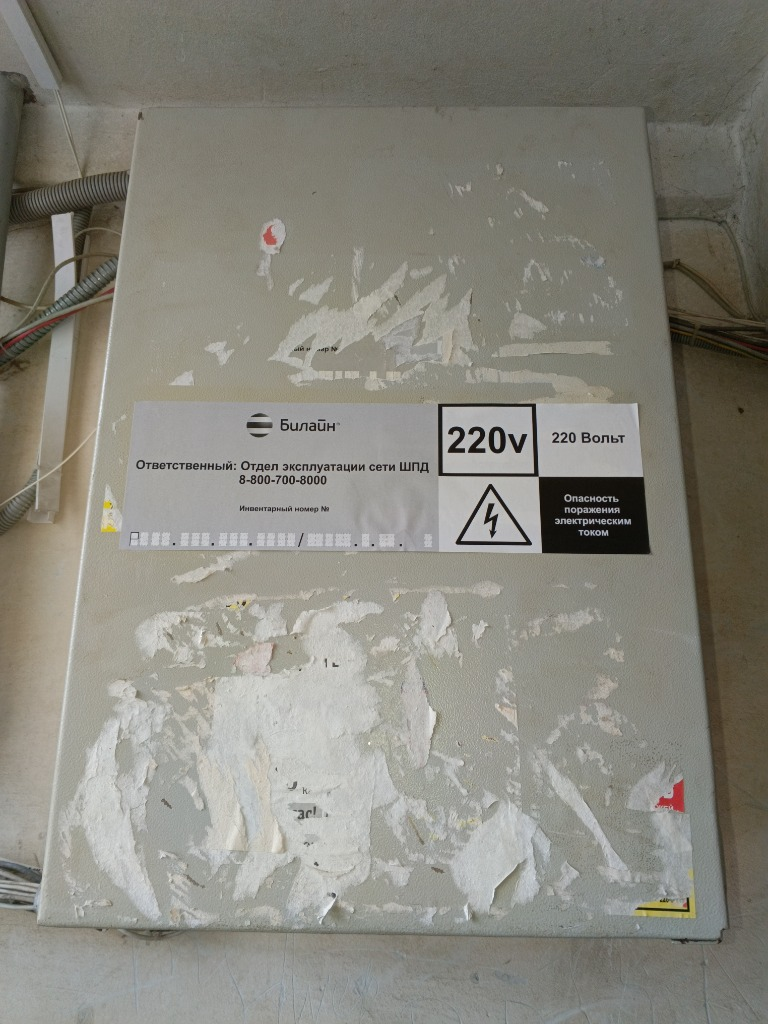sv-5: (30, 93, 741, 947)
